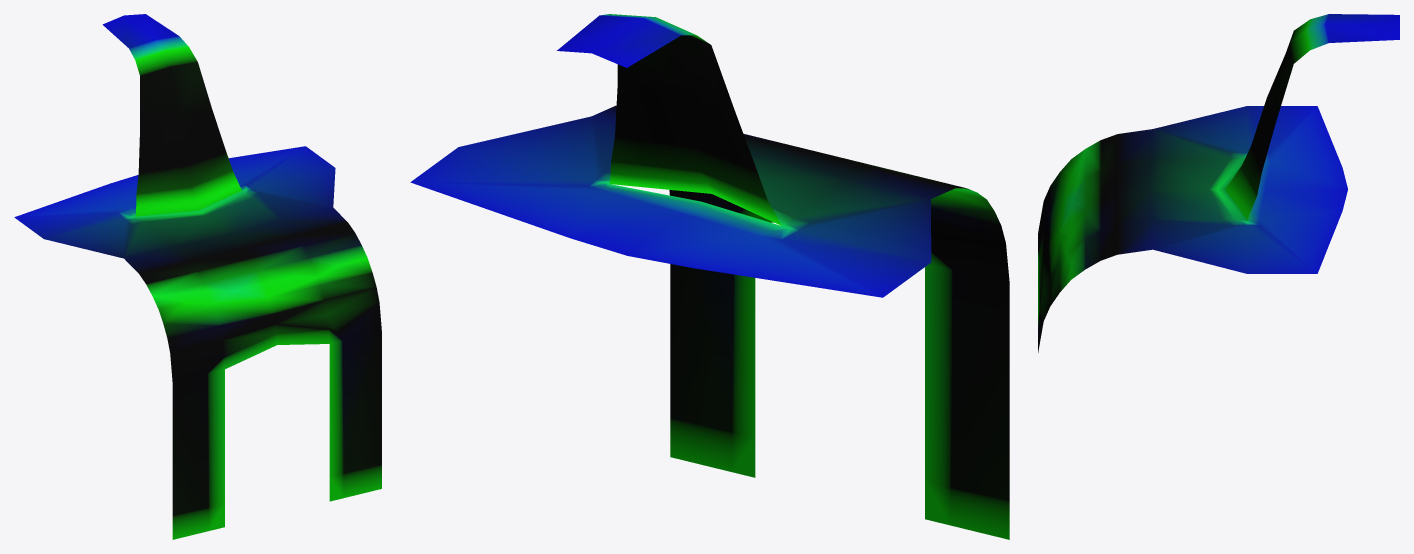
Rendered from SM_SplitWaterfallTop.fbx.
3 renders of one model, left to right at view 1: azimuth 30°, elevation 25°; view 2: azimuth 150°, elevation 25°; view 3: azimuth 270°, elevation 25°, orthographic. The views are drawn at different scales.
Parts seen in each view (by area): view 1: SplitWaterfall2; view 2: SplitWaterfall2; view 3: SplitWaterfall2.
Part boxes in pixels (box(x1,y1,x2,y2)): SplitWaterfall2: box(14, 14, 381, 539); SplitWaterfall2: box(410, 14, 1009, 539); SplitWaterfall2: box(1038, 14, 1399, 352).
Size of the model in its own units: 1116 by 1414 by 1015.
